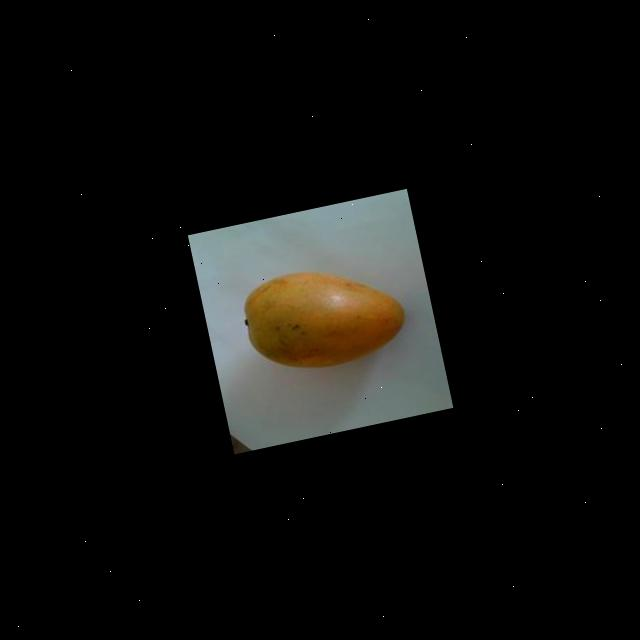Mango: (234, 250, 410, 381)
